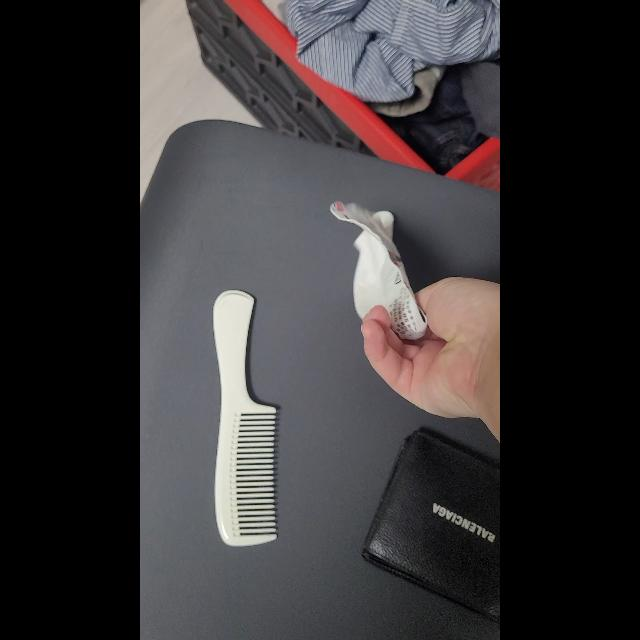COMB: (213, 290, 277, 548)
Glasses cleaning cloth: (330, 202, 428, 340)
WALLET: (362, 427, 500, 625)
